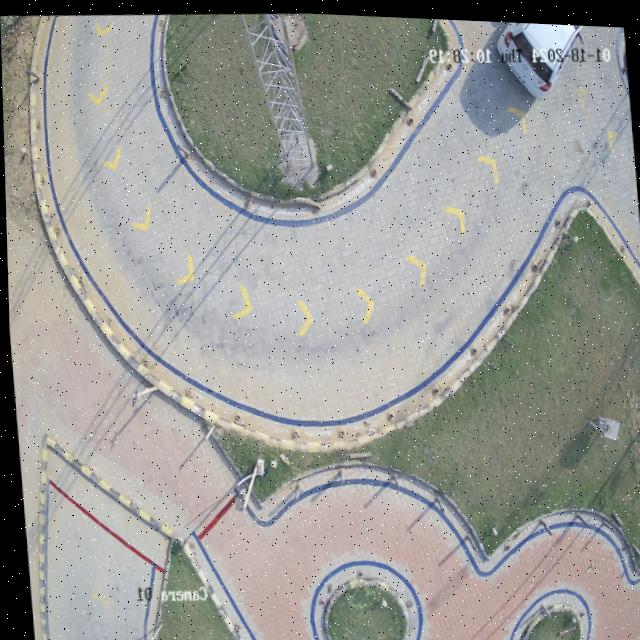car: (497, 18, 585, 94)
